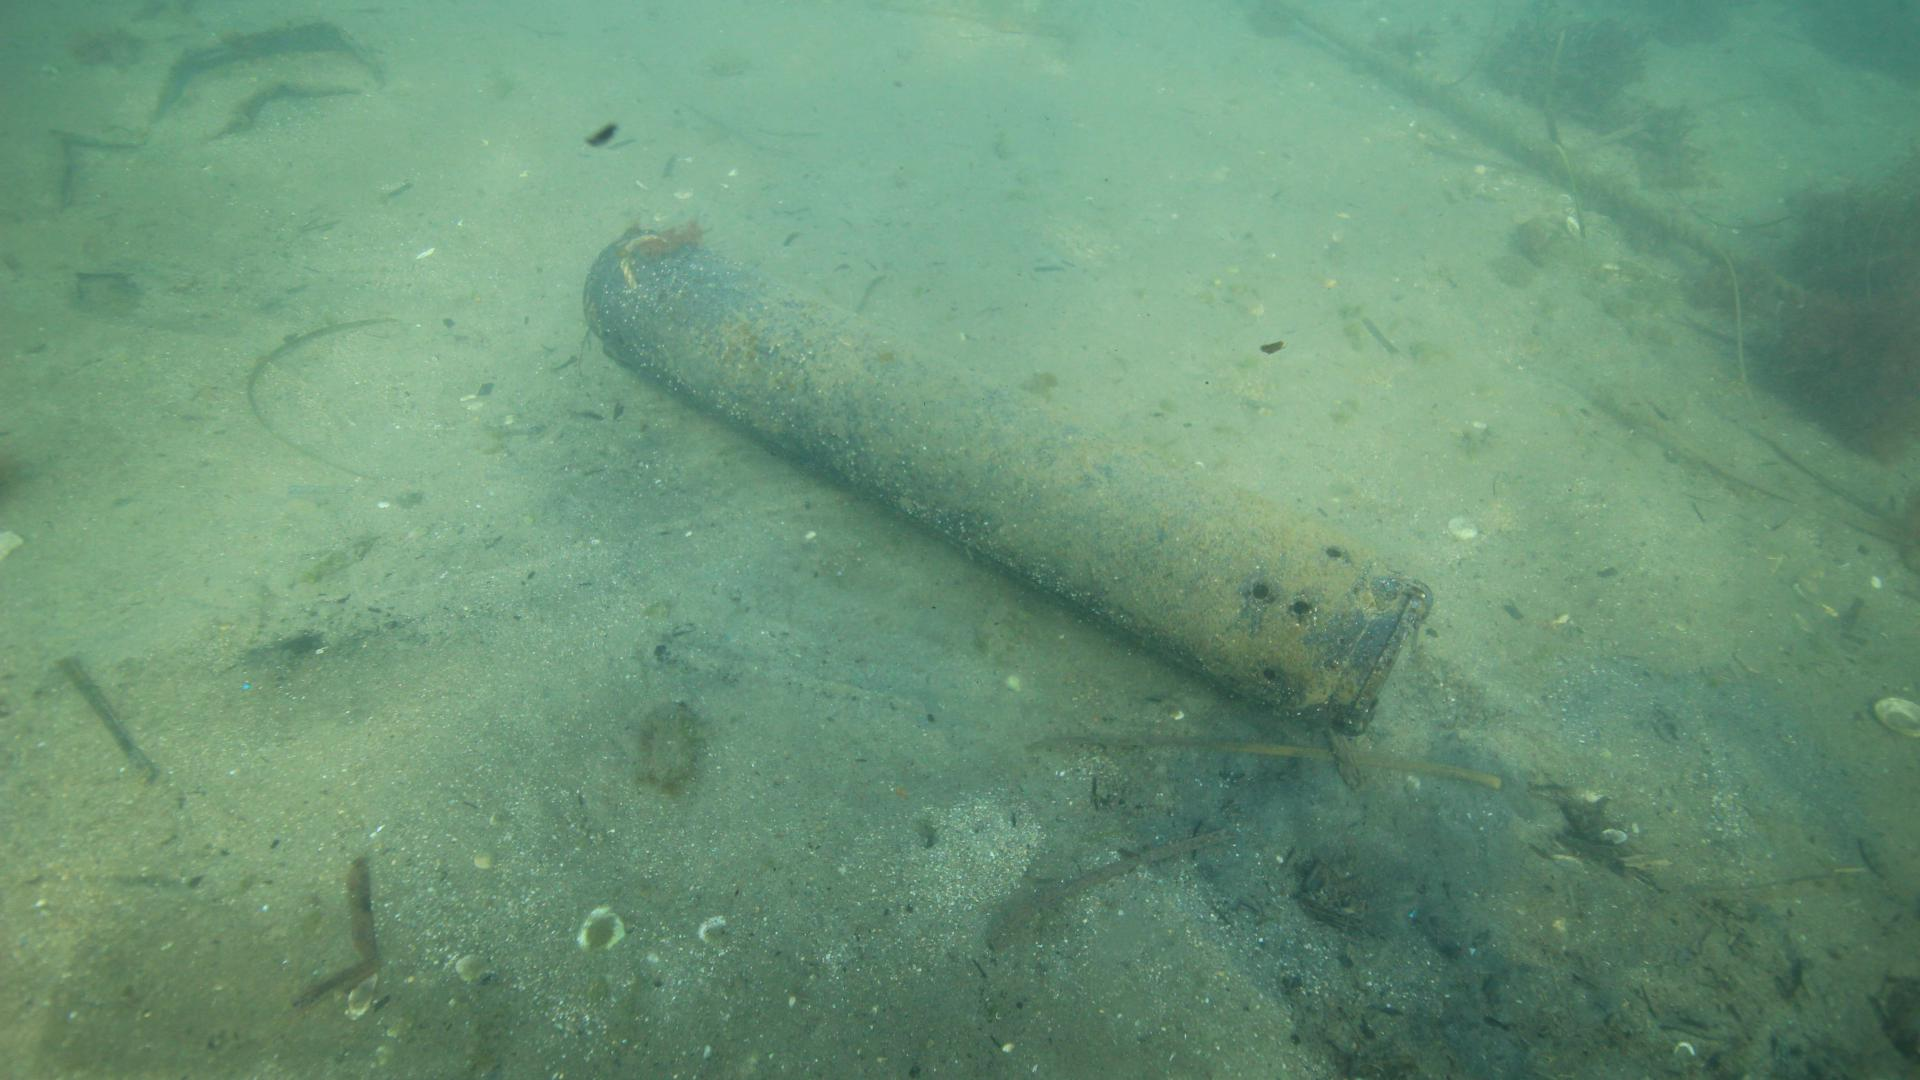bundle of ropes: (1270, 0, 1804, 303)
eel fish trap: (582, 227, 1432, 735)
rope: (616, 229, 670, 291)
